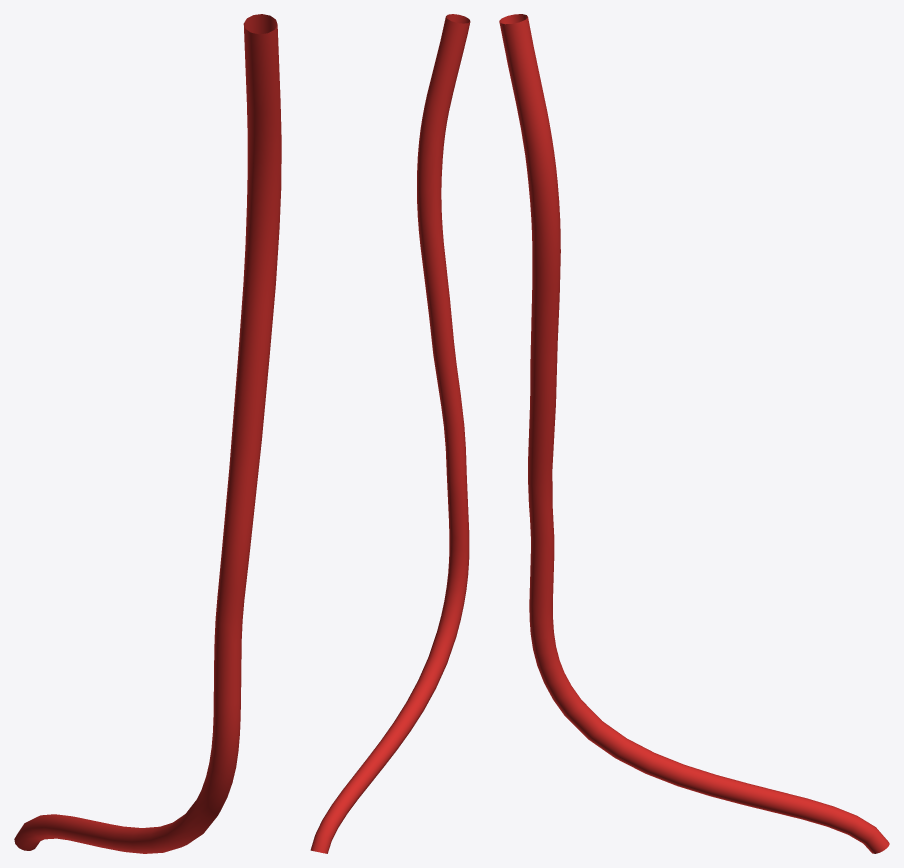
File: circulatorio-inferior-ulnar-collateral-artery-r.glb
3 renders of one model, left to right at view 1: azimuth 30°, elevation 25°; view 2: azimuth 150°, elevation 25°; view 3: azimuth 270°, elevation 25°, orthographic. The views are drawn at different scales.
Visible parts, largest first — view 1: Inferior ulnar collateral artery.r; view 2: Inferior ulnar collateral artery.r; view 3: Inferior ulnar collateral artery.r.
Part boxes in pixels (bbox=[...]): Inferior ulnar collateral artery.r: bbox=[14, 14, 281, 853]; Inferior ulnar collateral artery.r: bbox=[310, 14, 470, 853]; Inferior ulnar collateral artery.r: bbox=[499, 14, 889, 853].
Bounding box in the file's own units: 0.00469 × 0.0633 × 0.0265.
